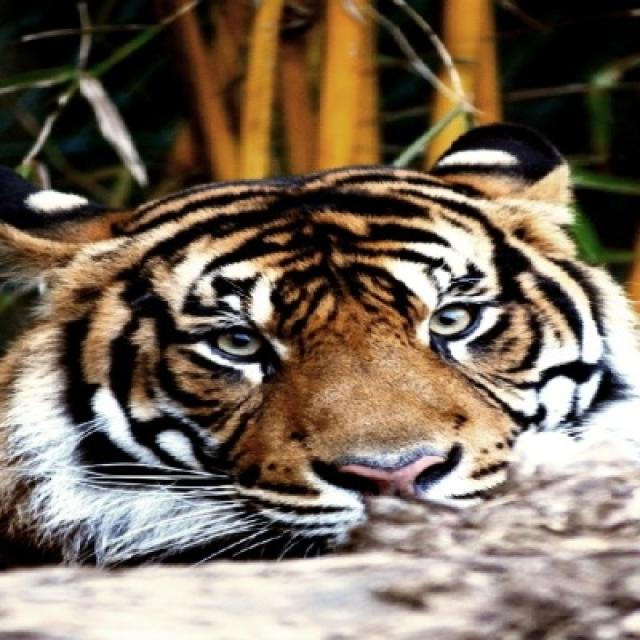Tiger: (0, 111, 638, 553)
